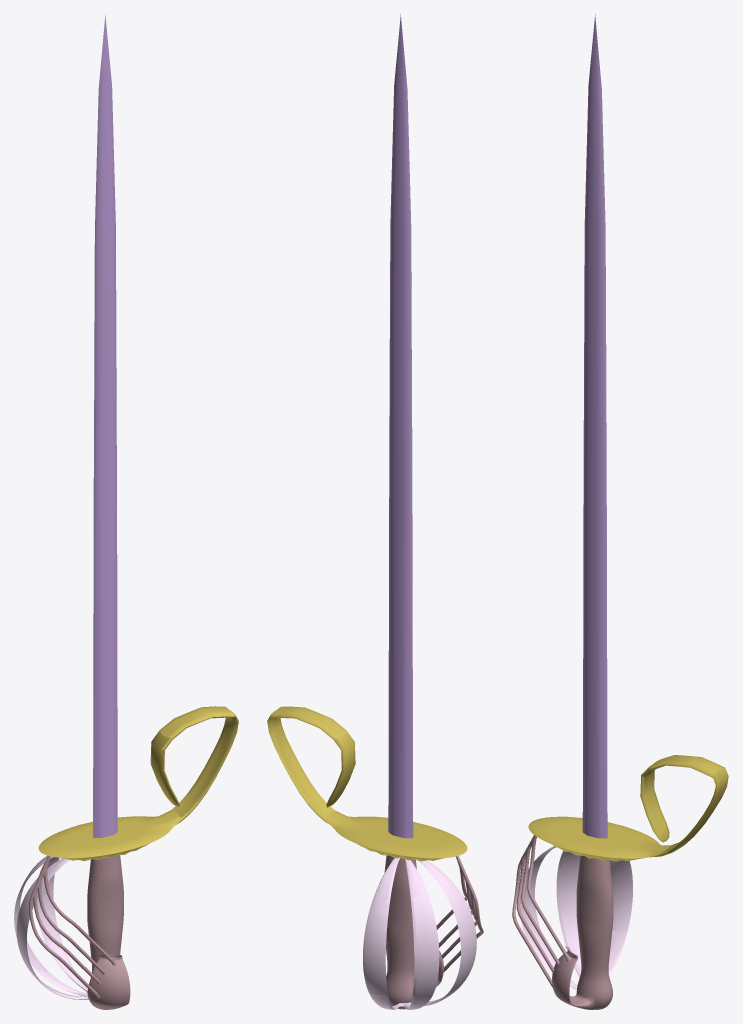
3 views of the same model, side by side, from view 1: azimuth 30°, elevation 25°; view 2: azimuth 150°, elevation 25°; view 3: azimuth 330°, elevation 25° (orthographic).
Visible parts, largest first — view 1: Object_5, split_parent_3, split_parent_0, split_parent_1; view 2: Object_5, split_parent_1, split_parent_3, split_parent_0; view 3: Object_5, split_parent_0, split_parent_3, split_parent_1.
Part boxes in pixels (left/top/right/bottom): Object_5: left=93, top=15, right=117, bottom=837; split_parent_3: left=38, top=706, right=238, bottom=861; split_parent_0: left=28, top=855, right=130, bottom=1009; split_parent_1: left=14, top=855, right=88, bottom=999; Object_5: left=388, top=14, right=413, bottom=838; split_parent_1: left=363, top=858, right=476, bottom=1009; split_parent_3: left=267, top=706, right=467, bottom=861; split_parent_0: left=384, top=855, right=483, bottom=1009; Object_5: left=582, top=14, right=607, bottom=838; split_parent_0: left=512, top=835, right=613, bottom=1009; split_parent_3: left=528, top=755, right=728, bottom=861; split_parent_1: left=520, top=846, right=632, bottom=989.
Size of the model in its own units: 0.2167 by 1 by 0.129.
